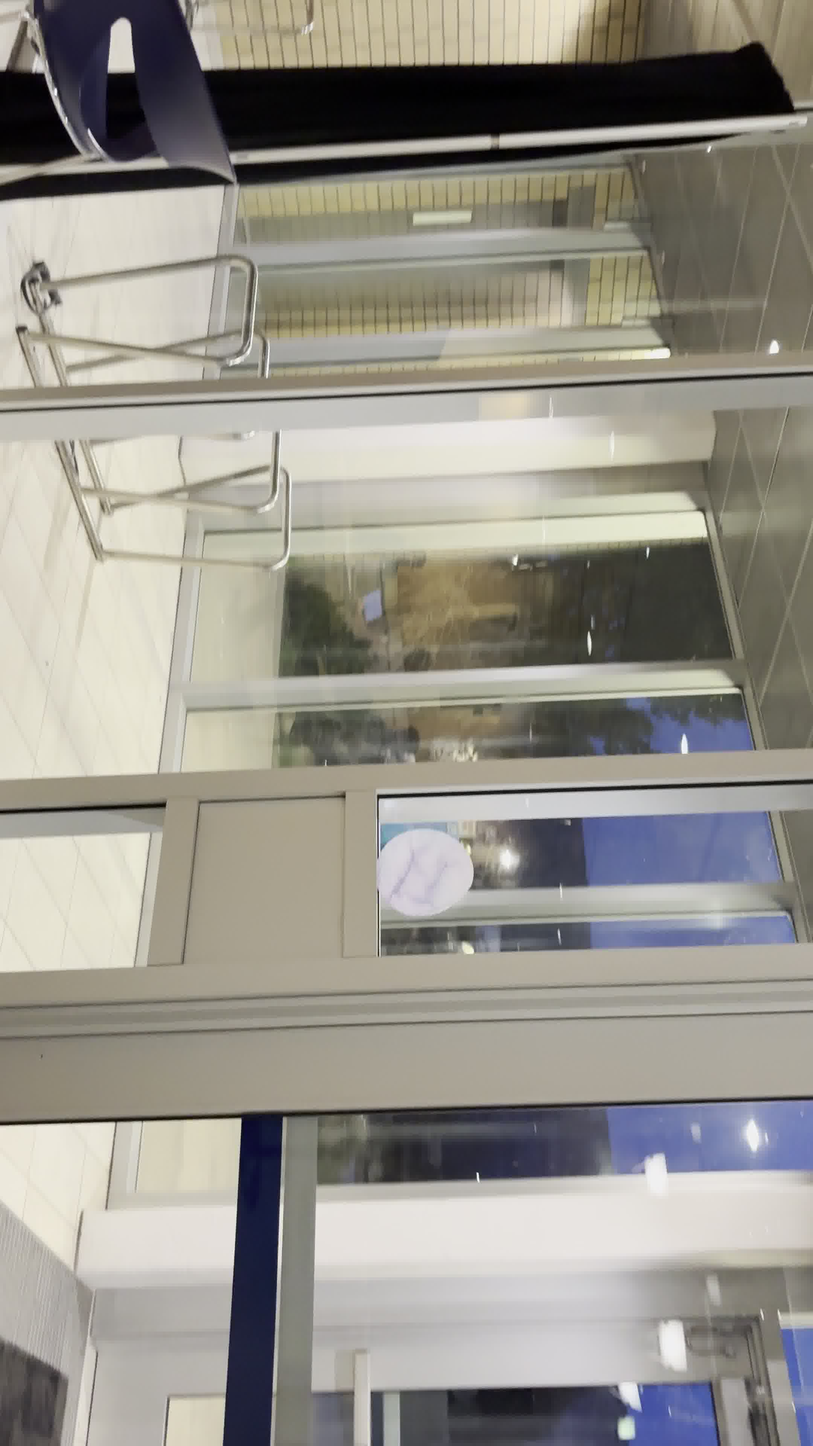Target: (373, 827, 475, 919)
